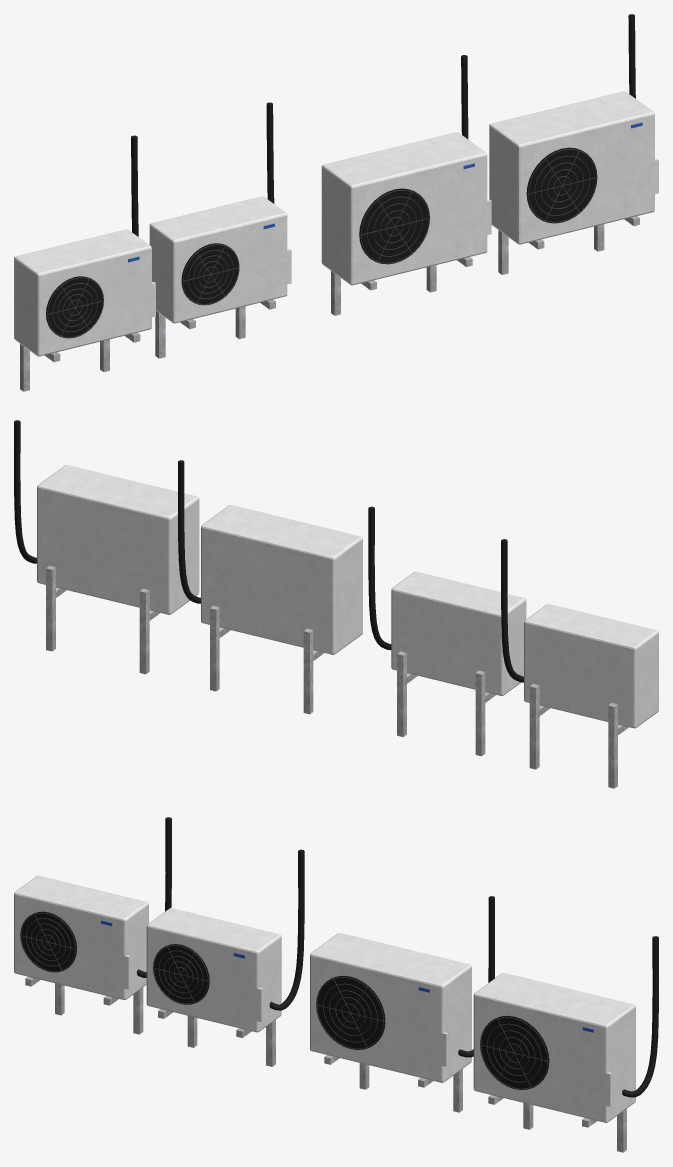
Rendered from C19_Outdoor_Condensing_Units_x4.fbx.
The picture shows the model from 3 angles, top to bottom: view 1: azimuth 30°, elevation 25°; view 2: azimuth 150°, elevation 25°; view 3: azimuth 330°, elevation 25°; orthographic projection. The views are drawn at different scales.
Visible parts, largest first — view 1: CDU_3_Sinclair, CDU_4_Sinclair, CDU_1_Old, CDU_2_Old, Refrig_Pipe_2, Refrig_Pipe_1, Refrig_Pipe_4, Refrig_Pipe_3; view 2: CDU_3_Sinclair, CDU_4_Sinclair, CDU_1_Old, CDU_2_Old, Refrig_Pipe_2, Refrig_Pipe_4, Refrig_Pipe_1, Refrig_Pipe_3, Bracket_V_2, Bracket_V_1, Bracket_V_0.001, Bracket_V_3 (+4 smaller); view 3: CDU_4_Sinclair, CDU_3_Sinclair, CDU_2_Old, CDU_1_Old, Refrig_Pipe_4, Refrig_Pipe_2, Refrig_Pipe_1, Refrig_Pipe_3.
Part boxes in pixels (<box>): CDU_3_Sinclair: <box>321,132,491,285</box>; CDU_4_Sinclair: <box>489,91,658,244</box>; CDU_1_Old: <box>14,229,155,356</box>; CDU_2_Old: <box>149,196,291,323</box>; Refrig_Pipe_2: <box>266,102,274,203</box>; Refrig_Pipe_1: <box>131,135,138,236</box>; Refrig_Pipe_4: <box>628,14,635,98</box>; Refrig_Pipe_3: <box>461,55,468,139</box>; CDU_3_Sinclair: <box>201,505,362,654</box>; CDU_4_Sinclair: <box>37,465,199,614</box>; CDU_1_Old: <box>524,604,658,728</box>; CDU_2_Old: <box>391,571,526,695</box>; Refrig_Pipe_2: <box>368,506,391,650</box>; Refrig_Pipe_4: <box>14,420,36,563</box>; Refrig_Pipe_1: <box>501,539,523,682</box>; Refrig_Pipe_3: <box>178,460,200,603</box>; Bracket_V_2: <box>303,628,313,714</box>; Bracket_V_1: <box>475,670,485,756</box>; Bracket_V_0.001: <box>529,684,539,769</box>; Bracket_V_3: <box>139,588,149,674</box>; CDU_4_Sinclair: <box>473,973,635,1122</box>; CDU_3_Sinclair: <box>310,933,471,1082</box>; CDU_2_Old: <box>146,908,281,1032</box>; CDU_1_Old: <box>14,875,148,999</box>; Refrig_Pipe_4: <box>622,936,658,1097</box>; Refrig_Pipe_2: <box>269,849,304,1010</box>; Refrig_Pipe_1: <box>136,817,171,977</box>; Refrig_Pipe_3: <box>458,896,494,1057</box>.
Size of the model in its own units: 3.94 by 1.35 by 0.4369.
Materials: 6 (3 with a texture image).
